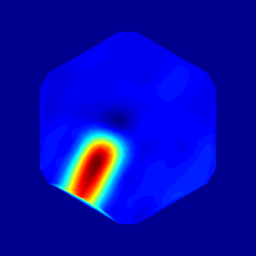ship: (99, 120, 124, 142)
wave: (90, 134, 121, 177)
